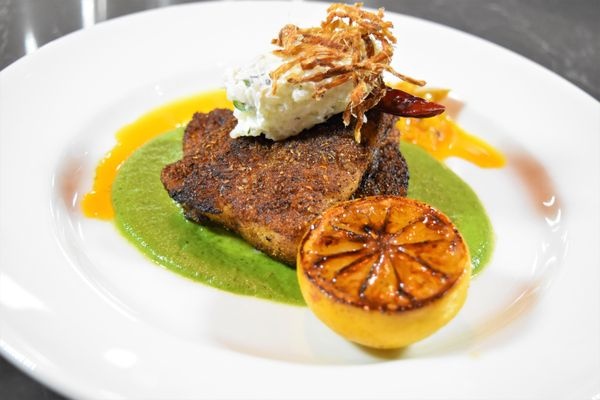curry: (7, 0, 599, 392)
